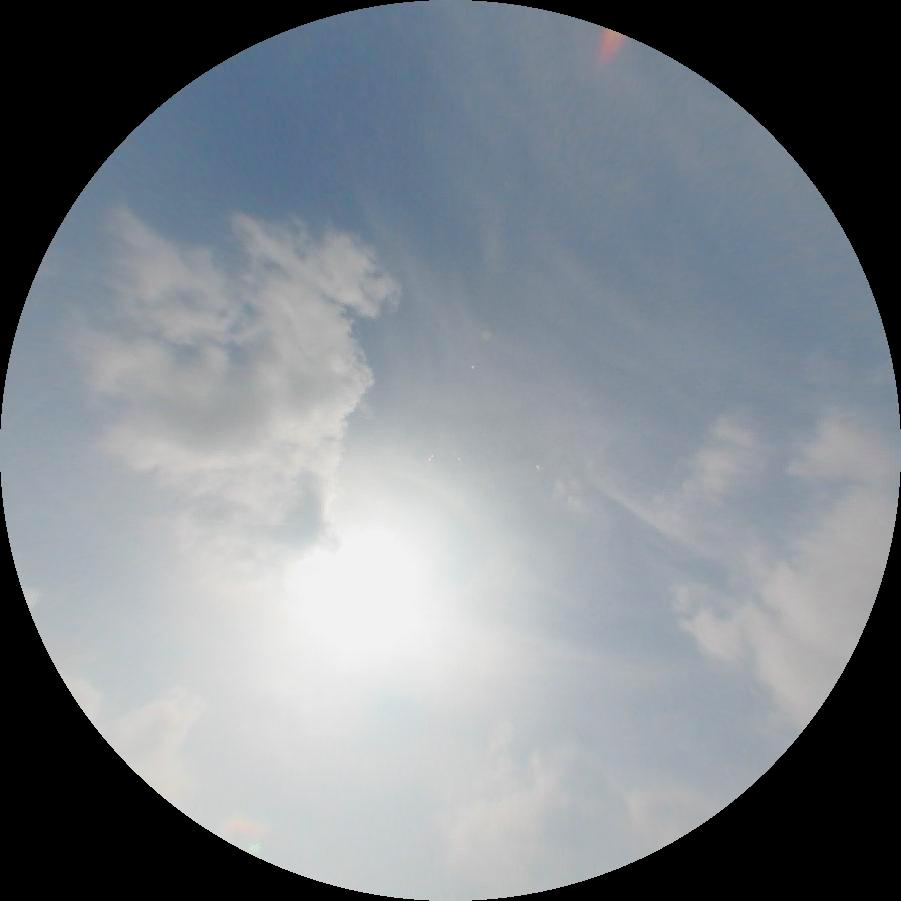sun: (280, 519, 446, 688)
